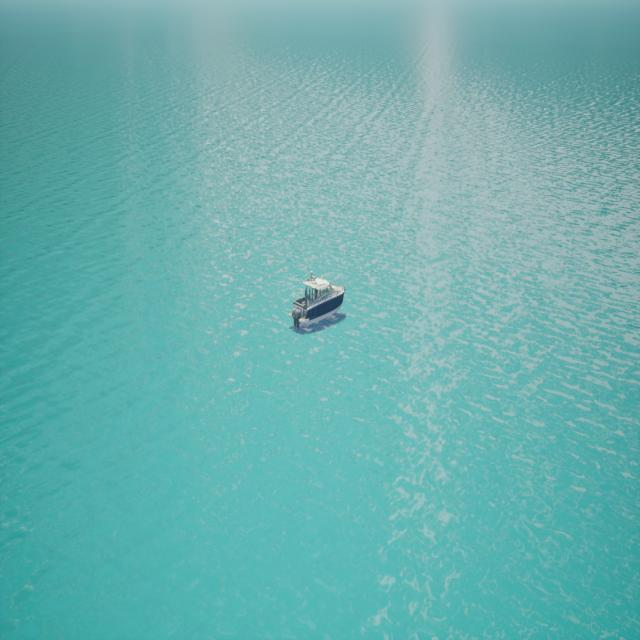ship: (291, 276, 344, 334)
